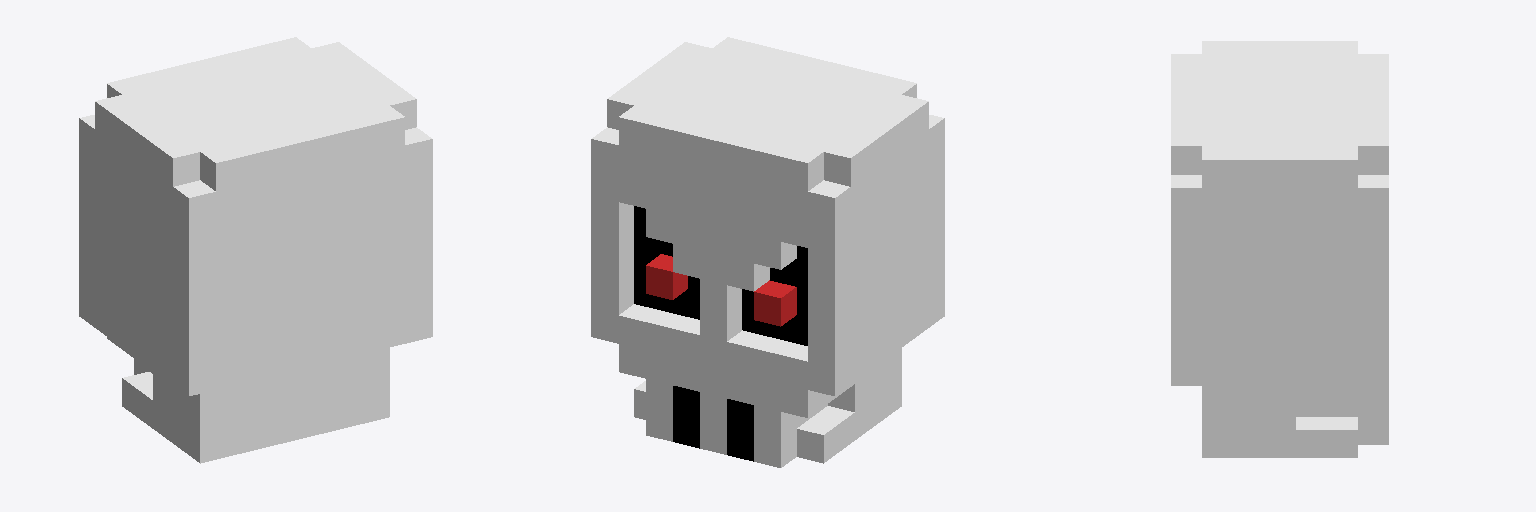
3 views of the same model, side by side, from view 1: azimuth 30°, elevation 25°; view 2: azimuth 150°, elevation 25°; view 3: azimuth 270°, elevation 25° (orthographic).
Visible parts, largest first — view 1: medium_skully_head_walk_h2; view 2: medium_skully_head_walk_h2; view 3: medium_skully_head_walk_h2.
Part boxes in pixels (bbox=[...]): medium_skully_head_walk_h2: bbox=[79, 37, 432, 463]; medium_skully_head_walk_h2: bbox=[591, 37, 944, 467]; medium_skully_head_walk_h2: bbox=[1171, 41, 1388, 457].
Bounding box in the file's own units: 9 × 11 × 7.
Materials: 1 (1 with a texture image).